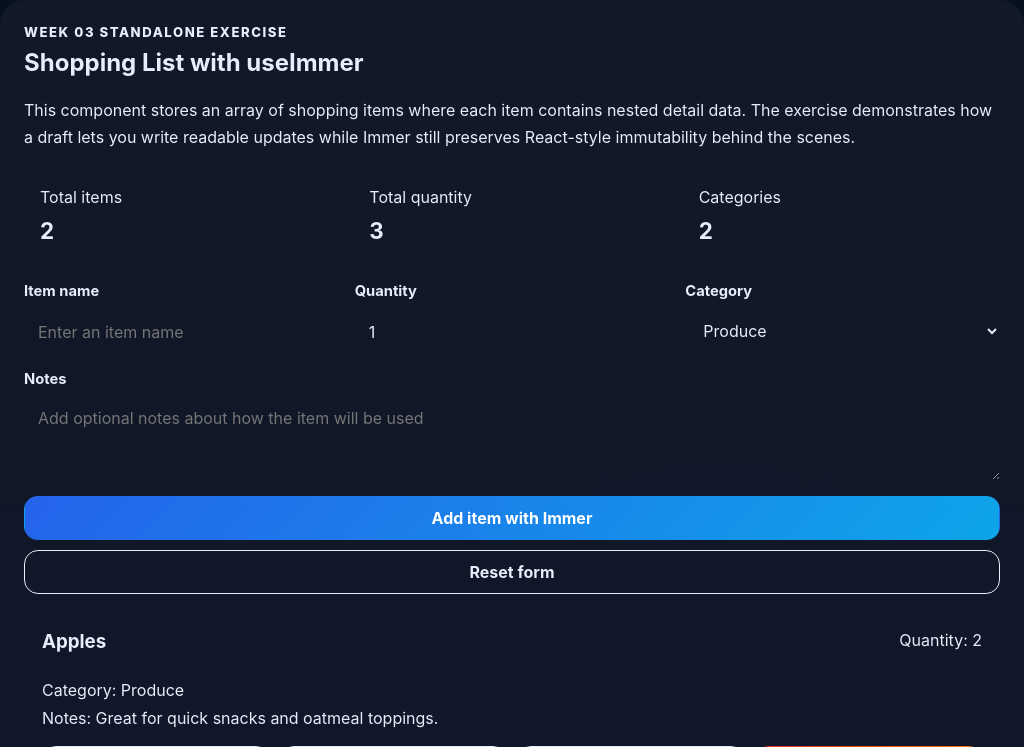
it: ShoppingListWithImmer standalone exercise › edge: normalizes invalid quantity input to 1 when adding a new item
The width and height of the screenshot is (1024, 747).
Type "Bananas" into the field labelled "Item name".
click(181, 332); type("Bananas")  # box top-left (24, 309), bottom-right (339, 354)
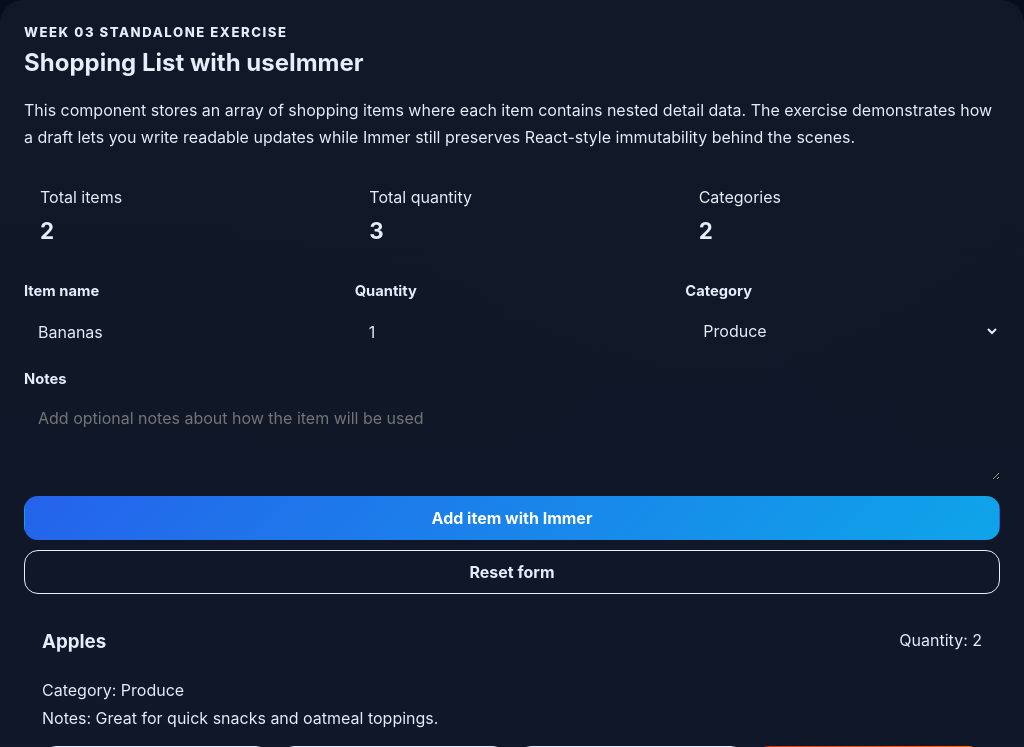
Replace the text in the number field with test id "item-quantity-input" with "0" at [512, 332], box top-left (355, 309), bottom-right (669, 354)
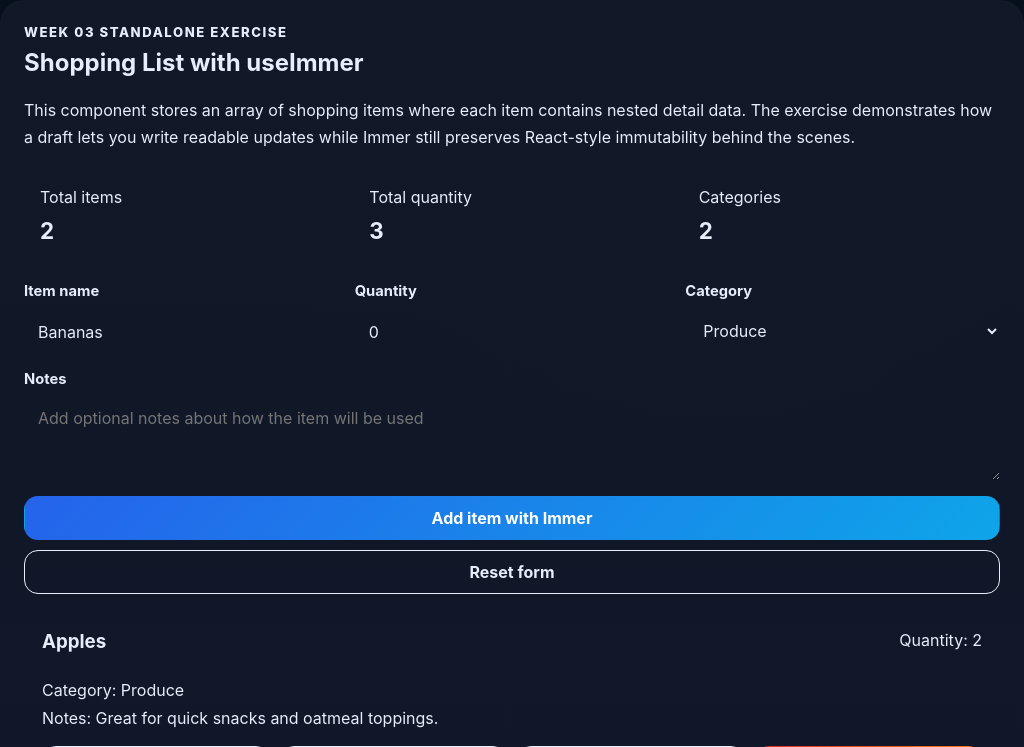
Click the button "Add item with Immer".
click(512, 518)  # box top-left (24, 496), bottom-right (1000, 540)
(page scrolled)
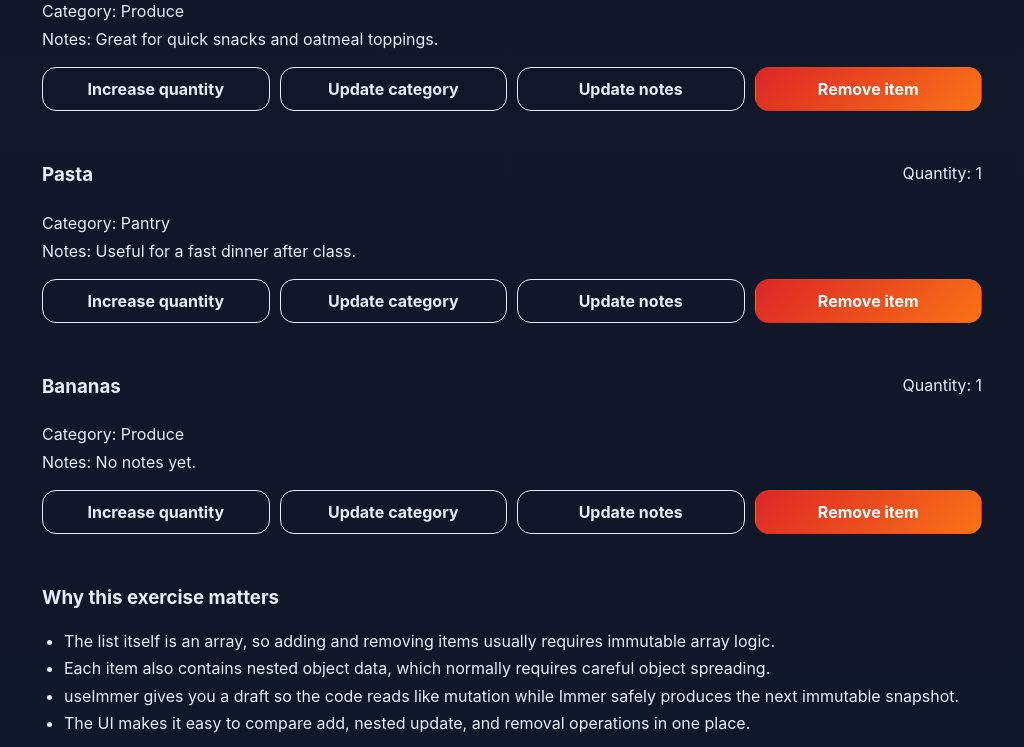
Expected: the heading "Bananas" is shown, top-left (42, 375), bottom-right (121, 398)
Expected: the text with test id "item-quantity-3" reads "Quantity: 1", top-left (903, 375), bottom-right (982, 395)
